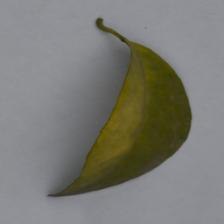greening: (62, 55, 215, 186)
